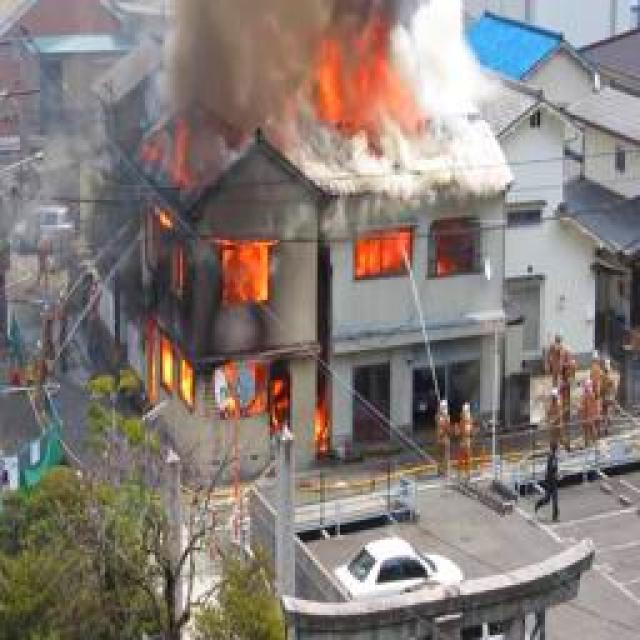Fire: (105, 148, 339, 462), (306, 17, 434, 137), (358, 229, 451, 281)
